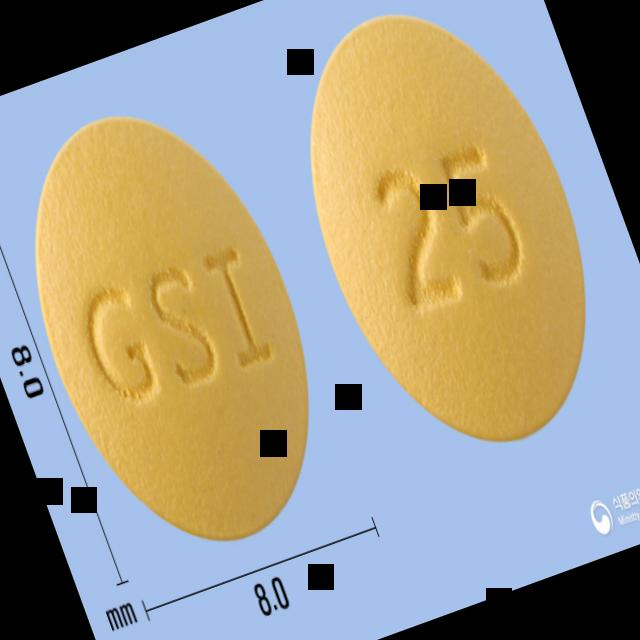Clarith: (257, 0, 640, 480), (0, 79, 363, 579)
